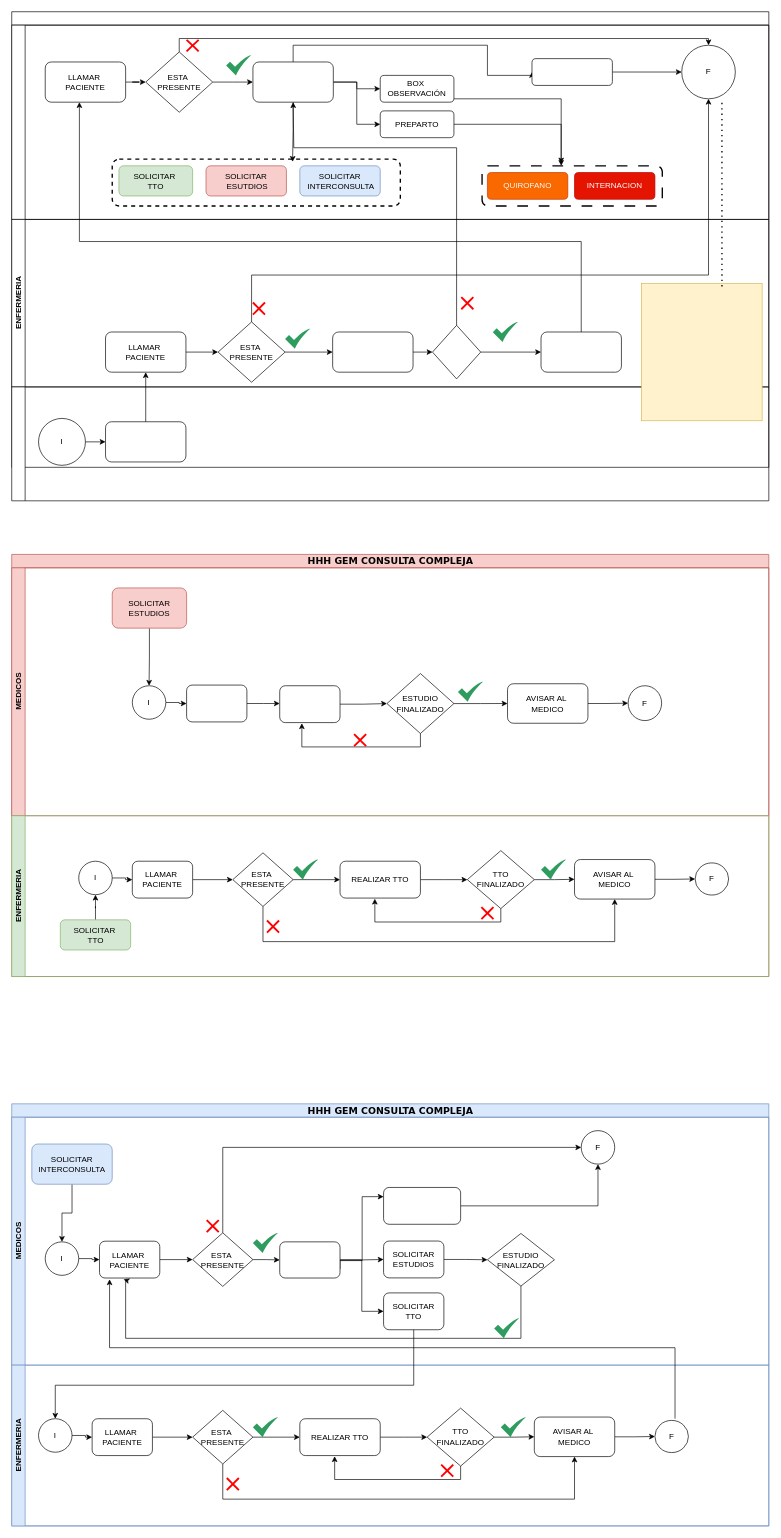
The diagram is 781 pixels wide and 1538 high, and some of its shapes have lost their labels. The shapes that lost their labels are listed below. From the top down, each one's box as (x1, y1, x2, y2) in pixels, then its label:
(252, 61, 333, 102): ATENDER EN CNS GUARDIA
(531, 58, 612, 85): ALTA
(11, 24, 769, 219): MEDICOS TOCOGINECOLOGOS
(11, 11, 769, 467): HHH GEO CONSULTA COMPLEJA
(332, 331, 413, 372): REALIZAR TRIAJE
(432, 325, 481, 379): PASILLO EXT.
(540, 331, 621, 372): ESPERAR ATENCION MEDICA
(641, 283, 762, 421): Posibles Tipos Altas Fuga Alta Voluntaria Defunción Derivación Alta Médica
(105, 421, 186, 462): RECEPCIONAR PACIENTES
(11, 386, 769, 501): GESTION DE PACIENTES
(186, 684, 247, 722): SOLICITAR ESTUDIO
(279, 685, 340, 723): ESPERAR ESTUDIO
(383, 1187, 461, 1224): FINALIZA INTERCONSULTA
(279, 1241, 340, 1278): ATENDER PACIENTE
